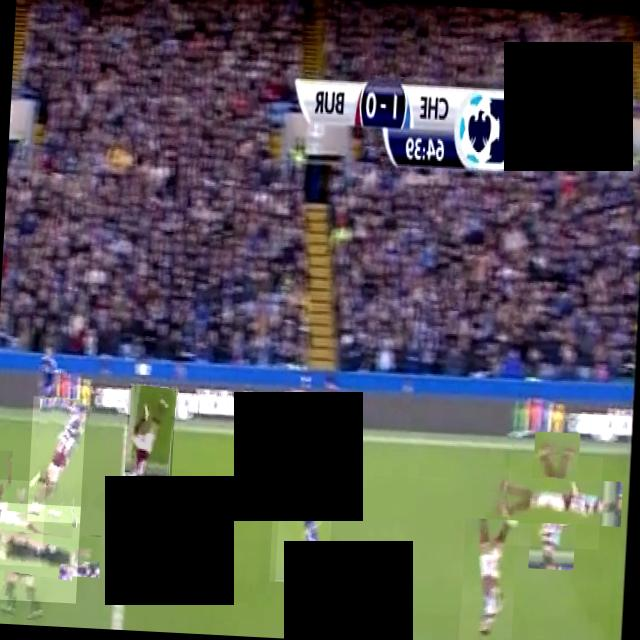referee: (0, 502, 81, 604)
soccer-player: (269, 435, 336, 585), (506, 452, 604, 550), (28, 396, 86, 524), (459, 517, 518, 640), (123, 386, 176, 504), (0, 479, 46, 567), (296, 605, 345, 640)
